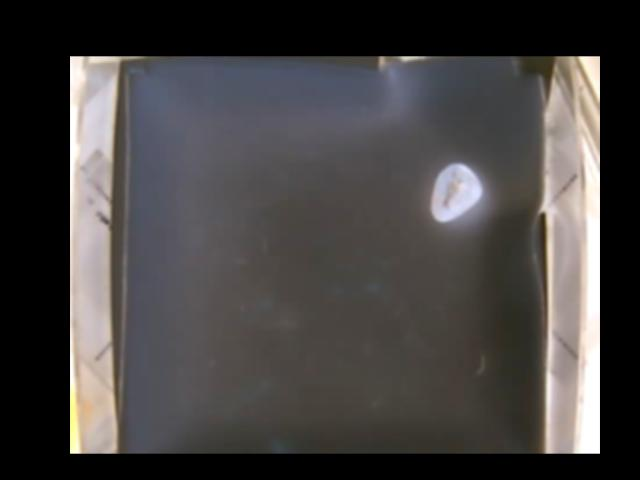Pebble: (431, 162, 479, 222)
